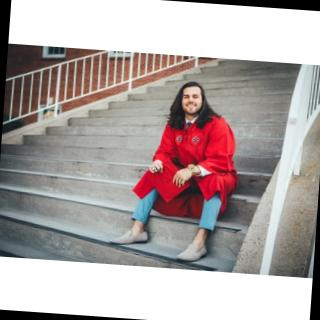loafers: (104, 224, 150, 250), (172, 236, 212, 265)
